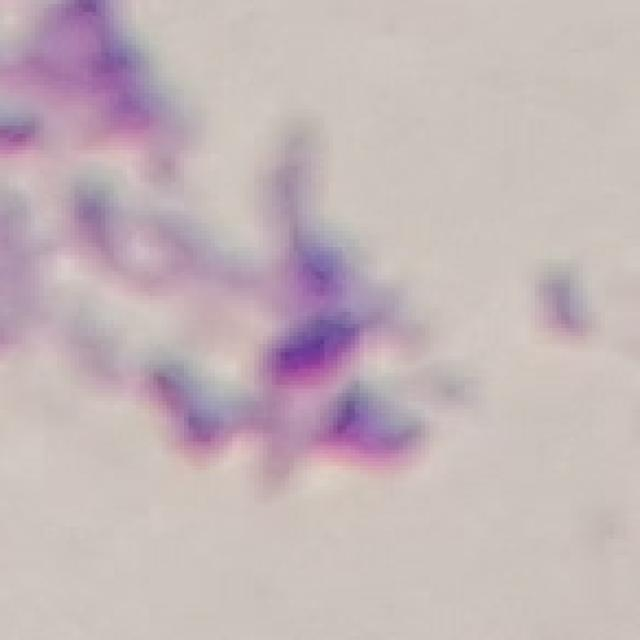non-sperm: (99, 156, 478, 496)
